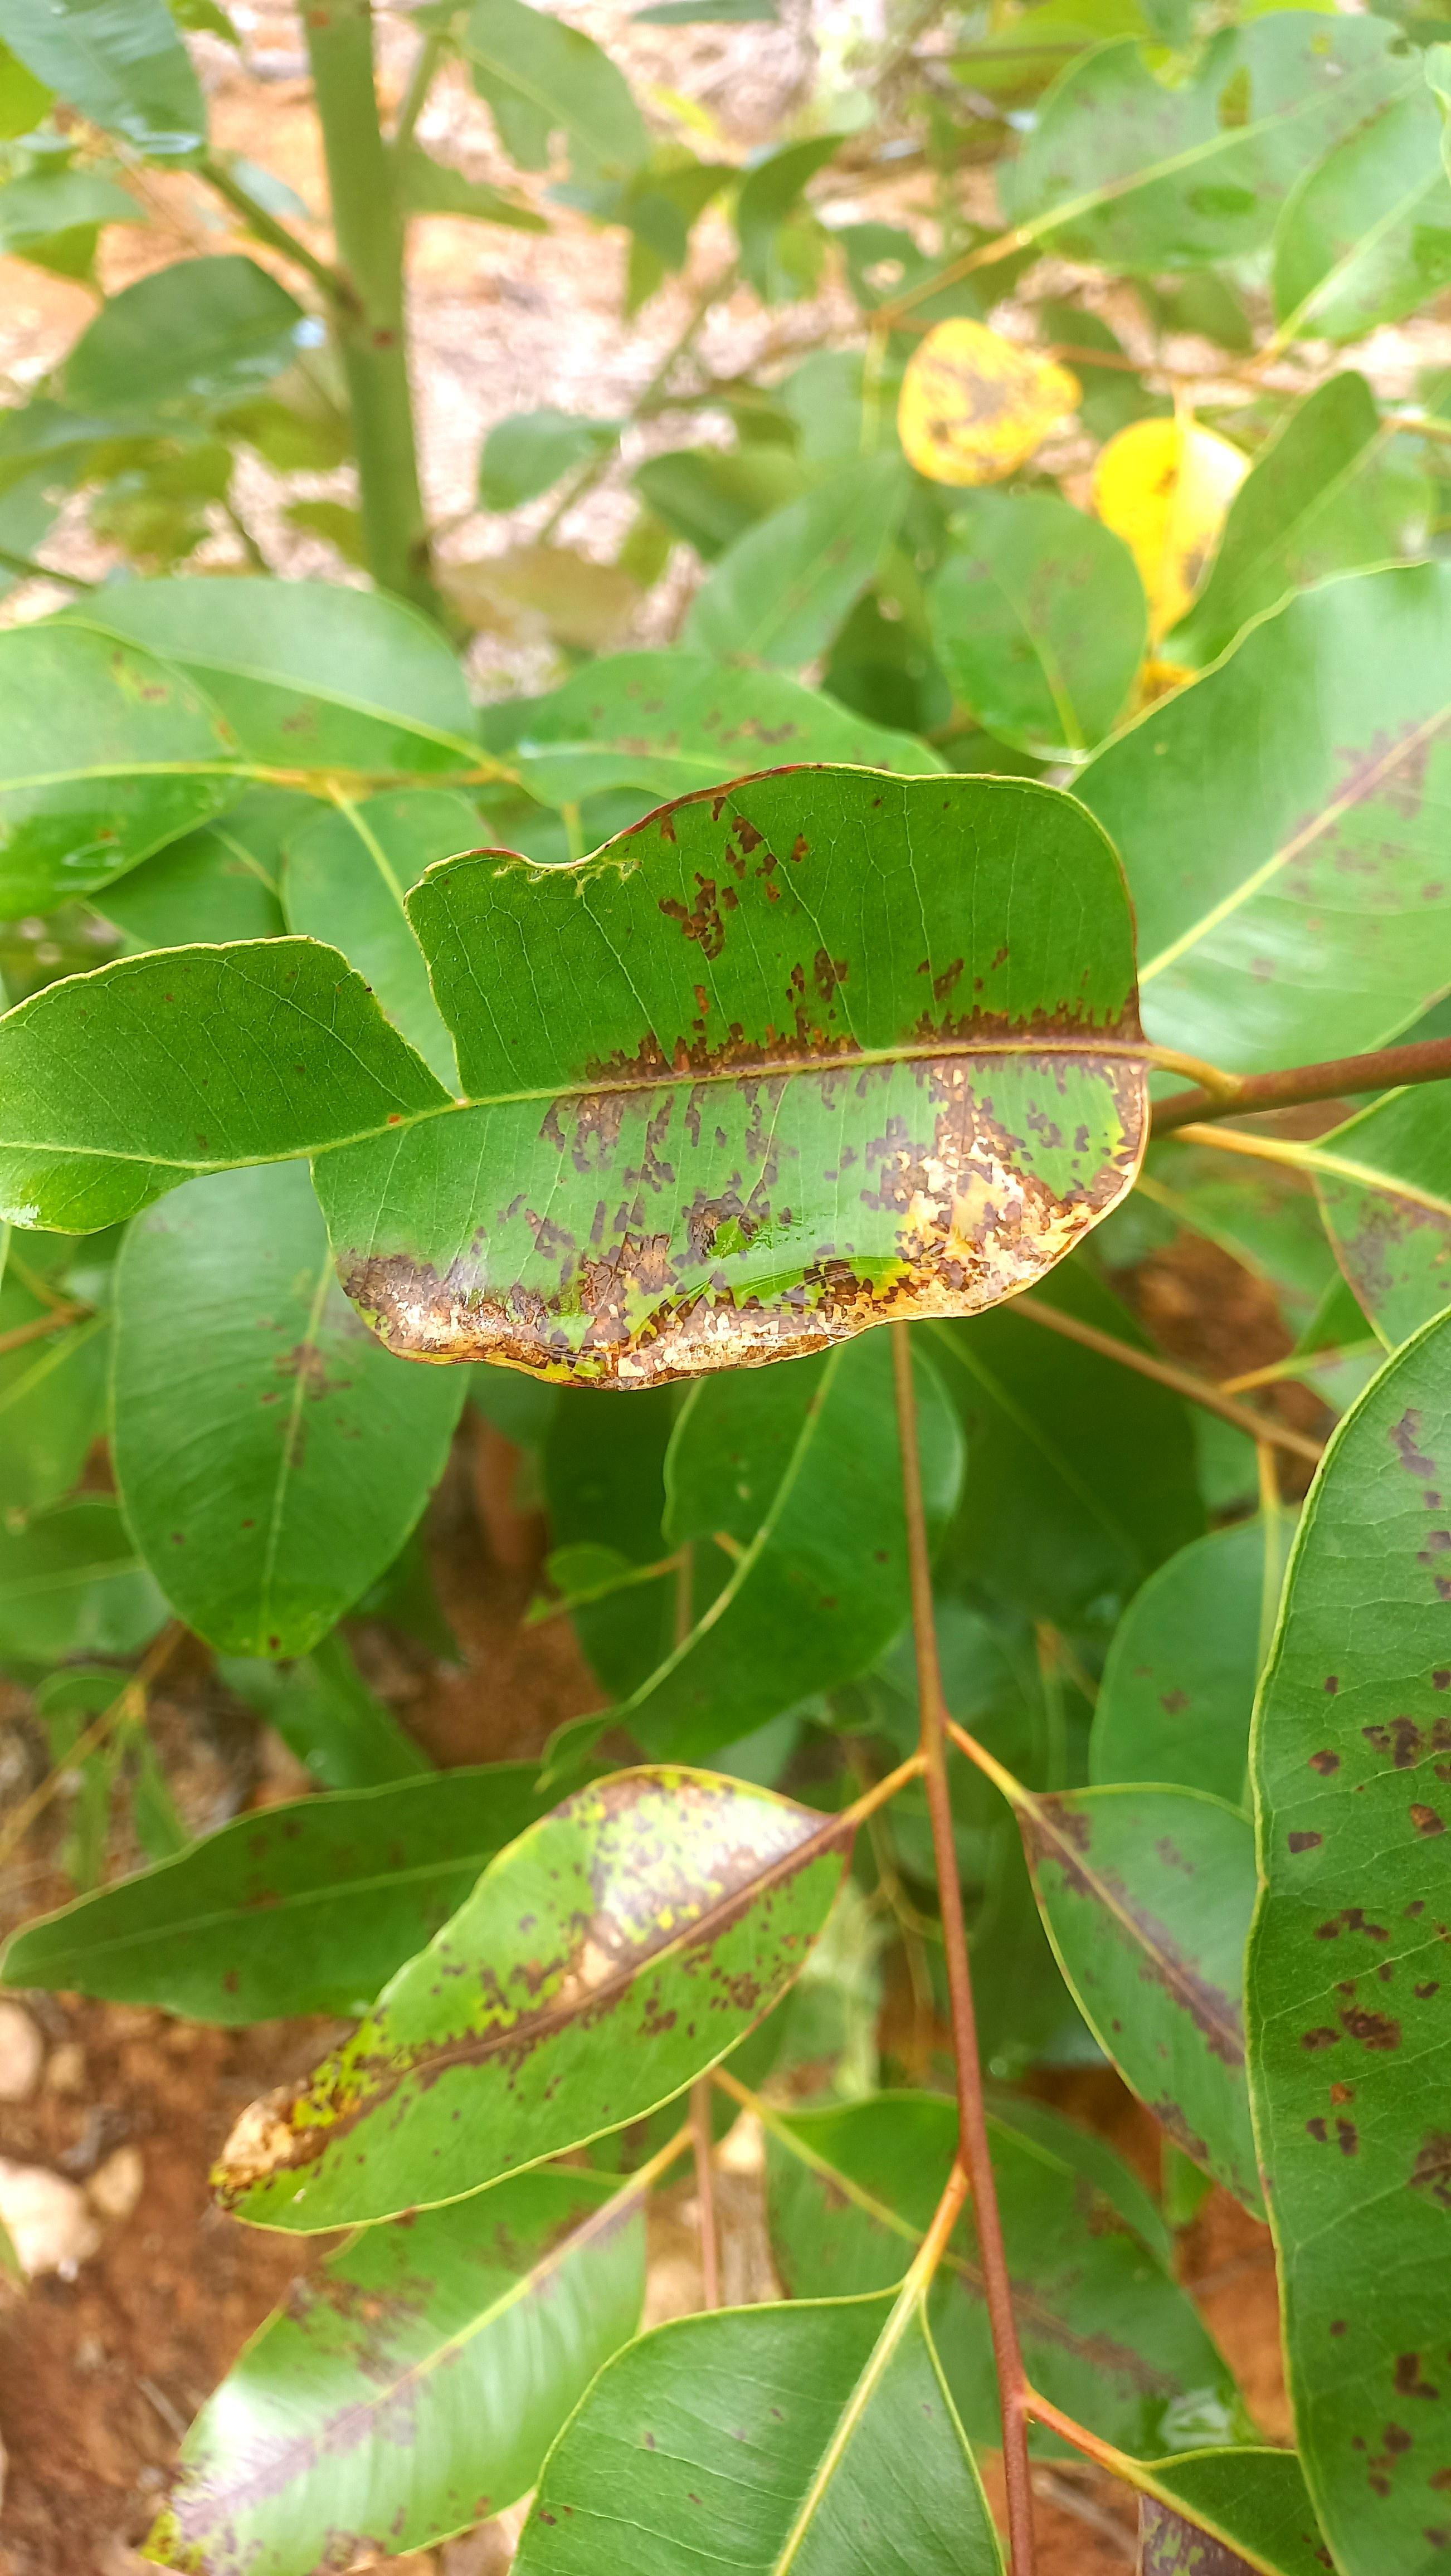Xanthomonas: (329, 964, 1166, 1419), (203, 1716, 871, 2254), (1265, 1415, 1451, 2576), (998, 1762, 1216, 2097)
